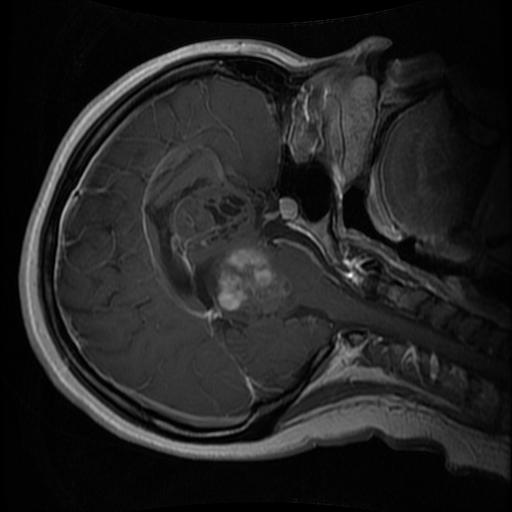glioma: (214, 250, 301, 314)
